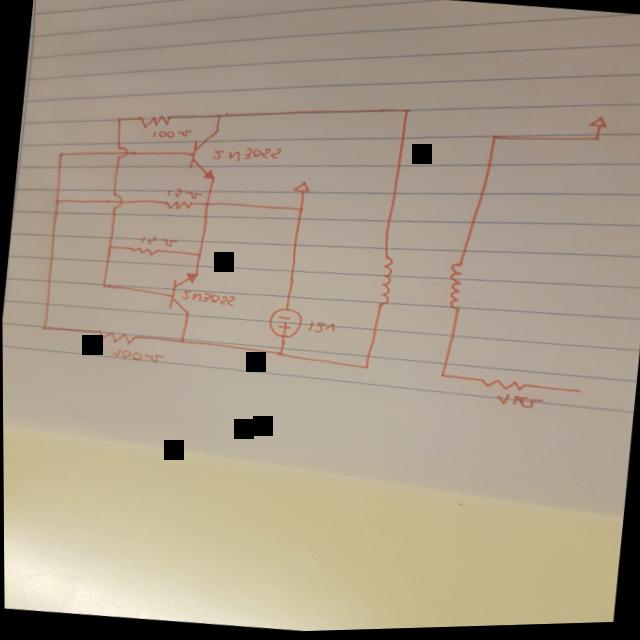crossover: (107, 192, 124, 210), (113, 143, 128, 158)
ground: (585, 116, 608, 132), (290, 180, 311, 195)
junction: (37, 320, 52, 332), (397, 108, 411, 117), (50, 196, 64, 205), (486, 134, 497, 144), (274, 349, 285, 359), (192, 249, 204, 258), (112, 114, 124, 123), (359, 363, 370, 372), (174, 336, 185, 345), (213, 111, 224, 120), (54, 149, 65, 158), (295, 205, 304, 214), (104, 242, 113, 251), (435, 374, 446, 381), (590, 138, 600, 145), (200, 200, 210, 207), (99, 281, 108, 288)
resistor: (471, 373, 534, 398), (91, 325, 142, 346), (137, 110, 170, 132), (125, 241, 162, 260), (163, 197, 192, 212)
source: (261, 305, 304, 342)
terminal: (566, 388, 586, 400)
text: (208, 139, 284, 169), (179, 287, 235, 309), (108, 346, 164, 365), (493, 393, 542, 414), (148, 124, 194, 143), (137, 233, 177, 248), (303, 320, 337, 337), (163, 187, 200, 201)
transformer: (373, 251, 467, 316)
transistor: (183, 123, 221, 185), (163, 269, 203, 316)
